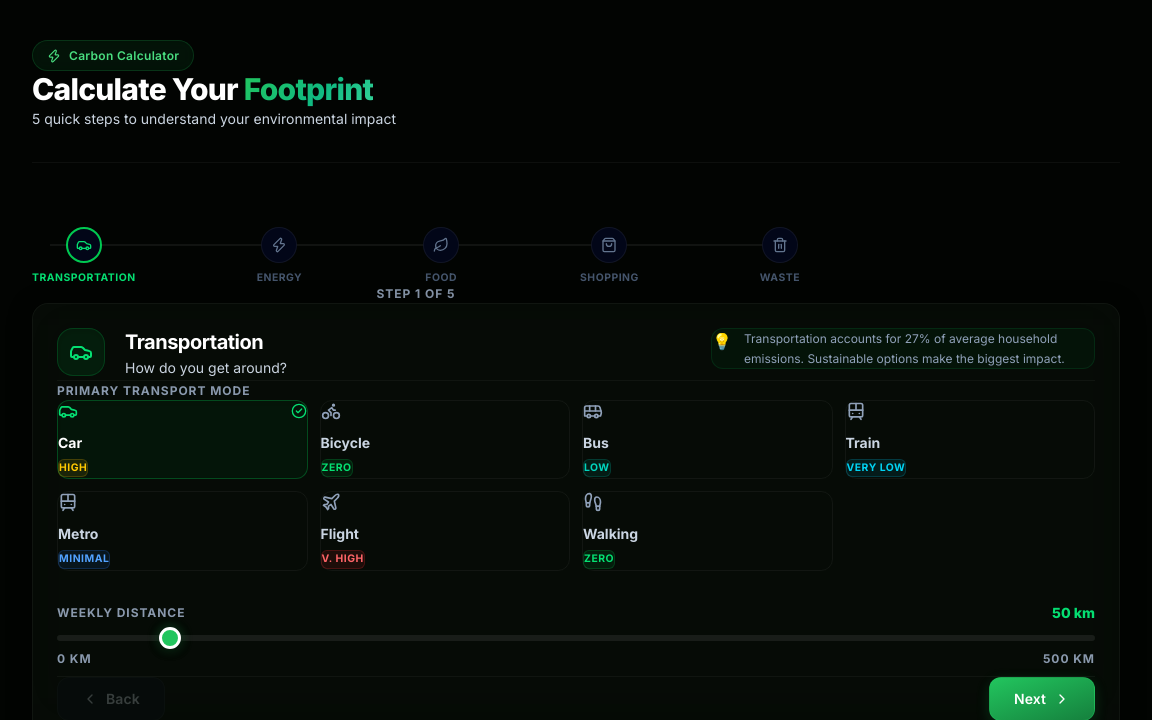
Test: CalculatorPage Component › correctly renders score display components for mid-range 60/100 (Fair) cases
// Skip to Step 5 quickly
Click the button "Next" at point(1042, 699), box [989,677,1095,719]
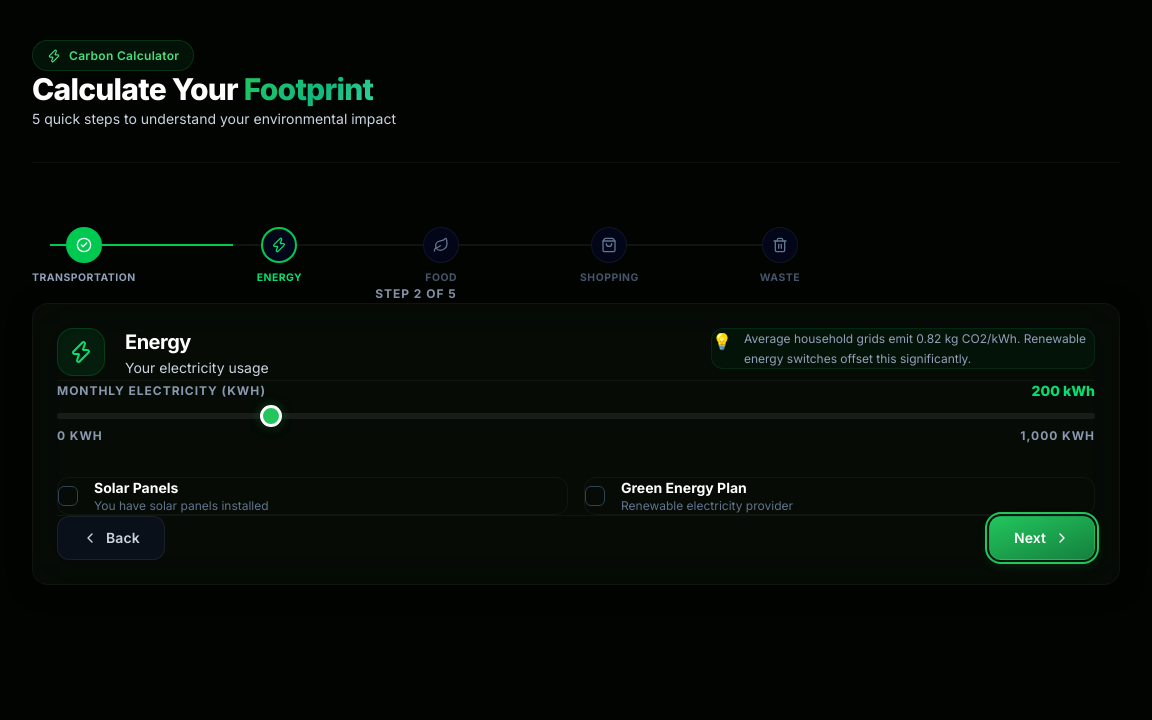
Click the button "Next" at point(1042, 538), box [989,516,1095,560]
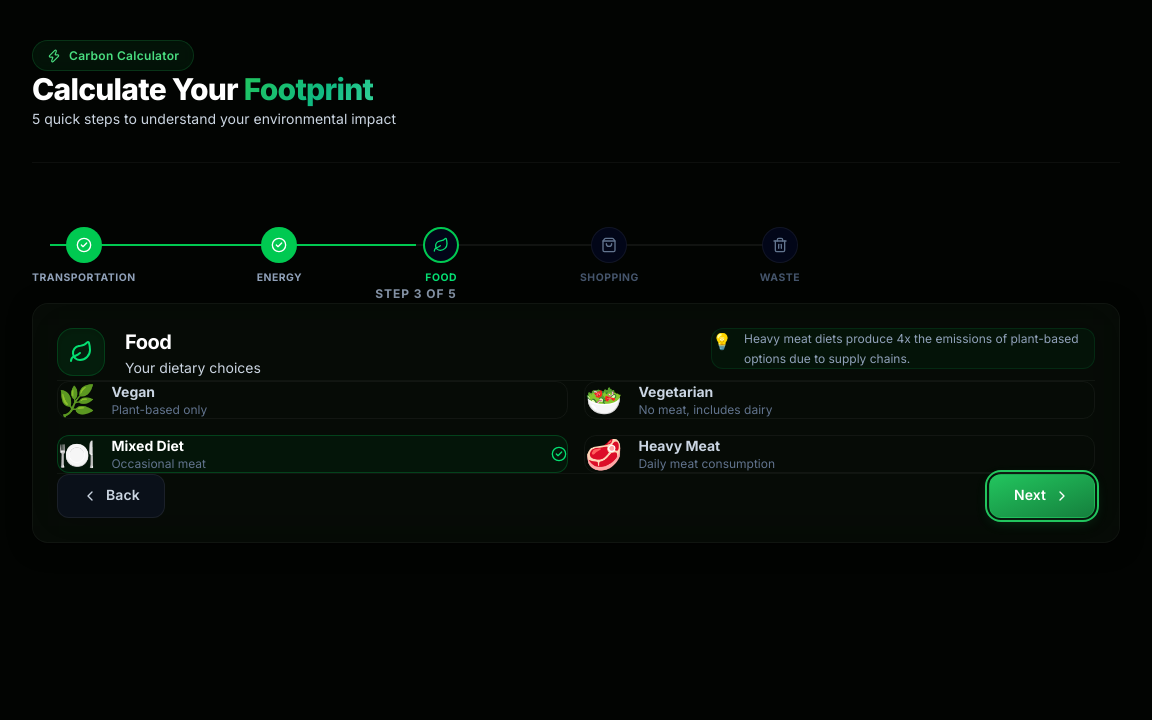
Click the button "Next" at point(1042, 496), box [989,474,1095,518]
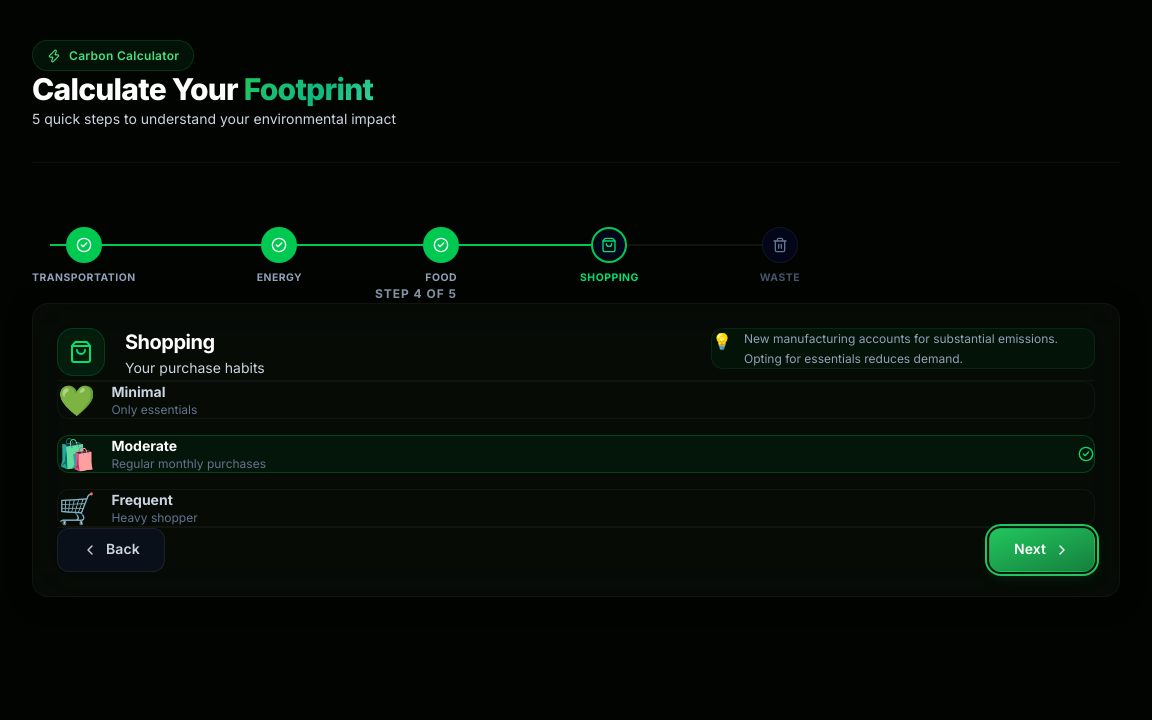
Click the button "Next" at point(1042, 550), box [989,528,1095,572]
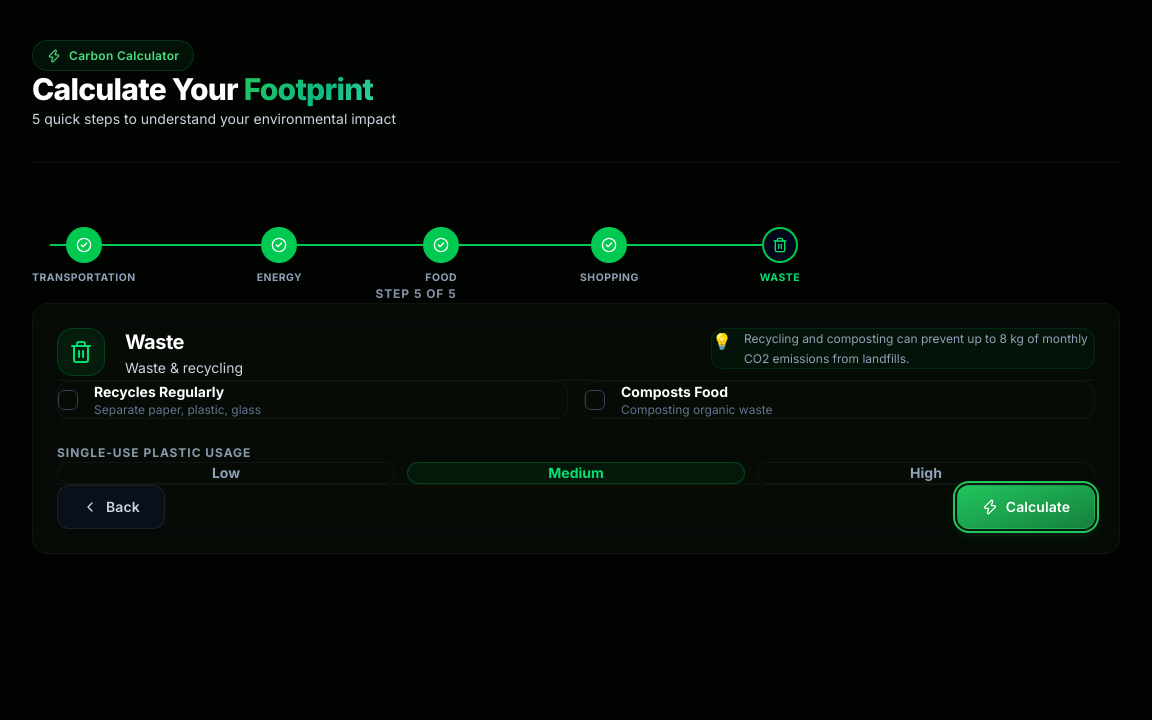
Click the button "Calculate" at point(1026, 507), box [957,485,1095,529]
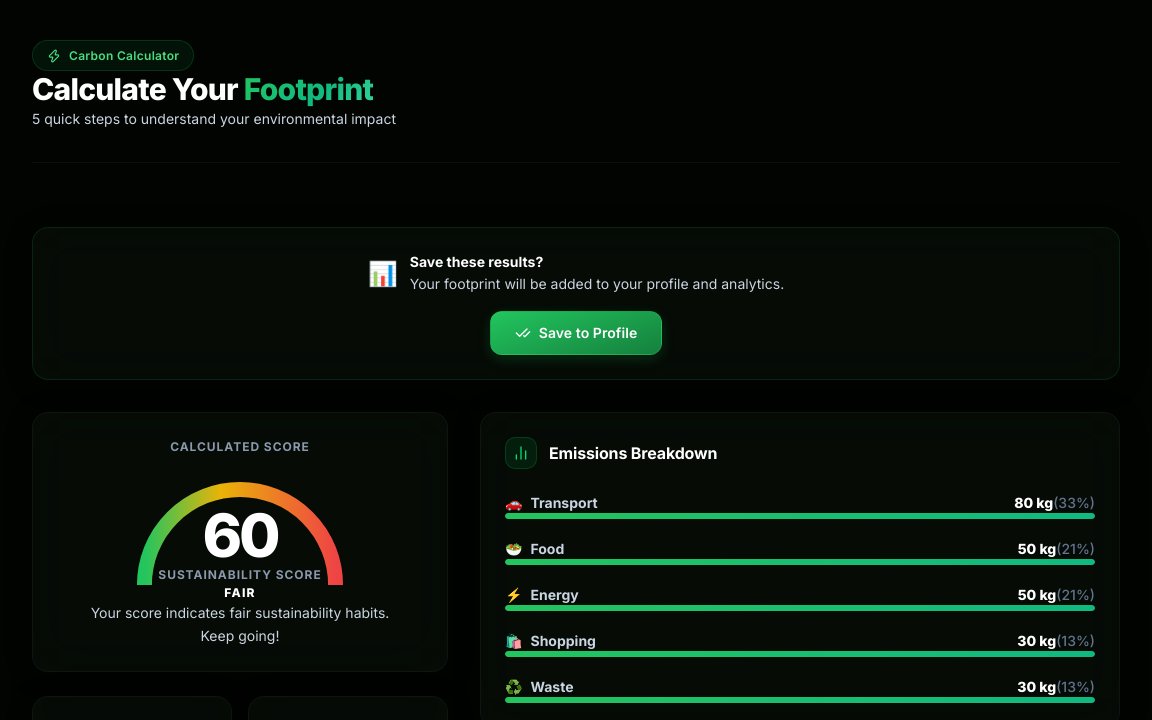
Now the text "60" is shown, box [202,499,278,571]
Now the text "Fair" is shown, box [224,585,256,601]
